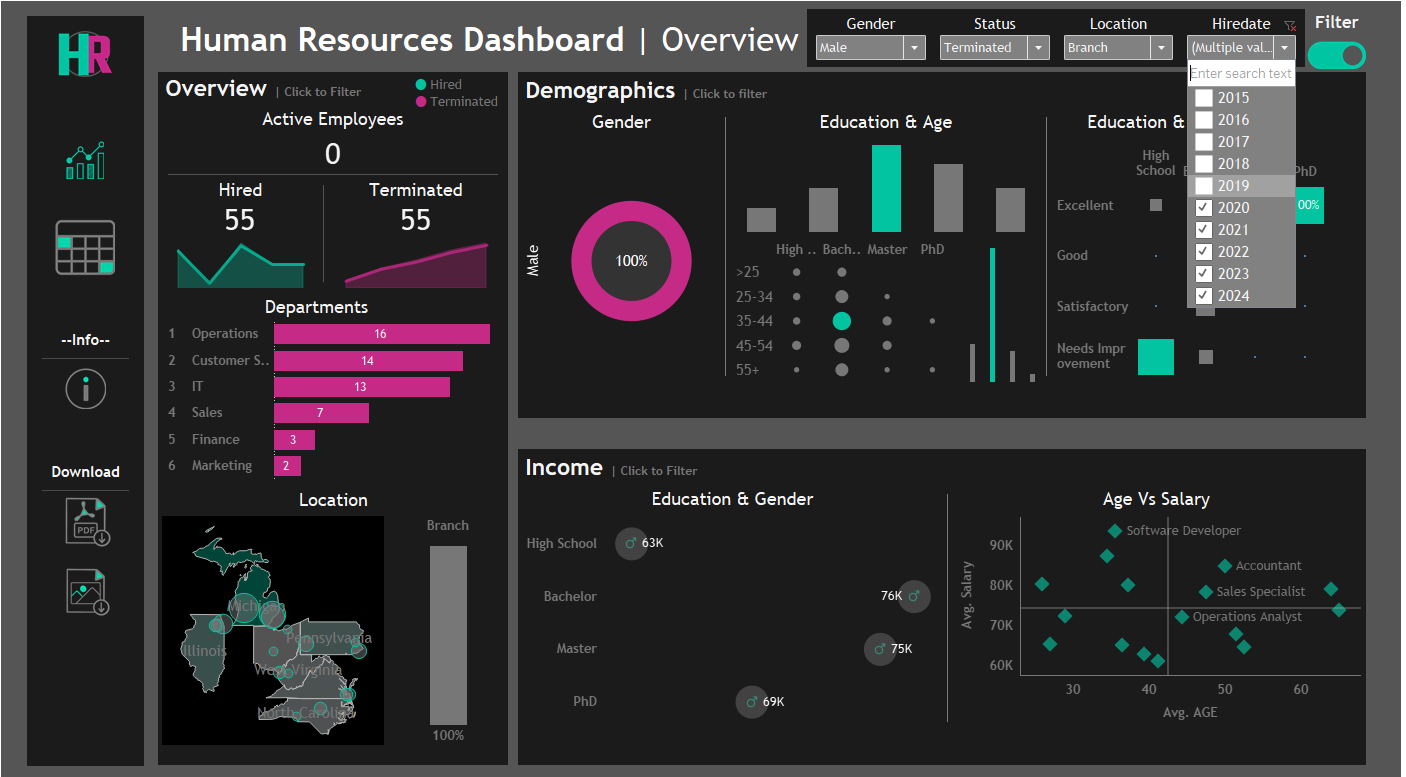

The page's visual inventory and layout, read from the dashboard file:
{"tool":"tableau","page":{"name":"HR | Summary","canvas":[1400,800],"ordinal":1},"visuals":[{"type":"blank","box":[142,0,1257,266]},{"type":"text","box":[1286,6,100,30]},{"type":"text","box":[150,7,677.5,64]},{"type":"blank","box":[827.5,7,537.5,64]},{"type":"filter","title":"Education VS Gender Level","param":"[federated.1b5o2vp1k13vo616yvkzb0z88h2i].[none:Gender:nk]","box":[808,10,124,54]},{"type":"filter","title":"Education VS Gender Level","param":"[federated.1b5o2vp1k13vo616yvkzb0z88h2i].[none:Calculation_1937110847479668753:n","box":[932,10,124,54]},{"type":"filter","title":"Education VS Gender Level","param":"[federated.1b5o2vp1k13vo616yvkzb0z88h2i].[none:Calculation_1937110846422126599:n","box":[1056,10,123,54]},{"type":"filter","title":"Education VS Gender Level","param":"[federated.1b5o2vp1k13vo616yvkzb0z88h2i].[yr:Hiredate:ok]","box":[1179,10,123,54]},{"type":"image","param":"Image/Logo.png","box":[36,25,97,55]},{"type":"dashboard-object","box":[1306,35,59,39]},{"type":"text","box":[157,71,350,32]},{"type":"text","box":[517,71,848,35]},{"type":"text","box":[411,76,89,36]},{"type":"blank","box":[36,80,97,60]},{"type":"text","box":[157,103,350,29]},{"type":"text","box":[517,106,207,29]},{"type":"blank","box":[724,106,1,279]},{"type":"text","box":[725,106,320,29]},{"type":"blank","box":[1045,106,1,279]},{"type":"text","box":[1046,106,287,29]},{"type":"worksheet","title":"Active","mark":"Text","box":[157,132,350,41]},{"type":"worksheet","title":"Gender","mark":"Pie","rows":["Gender"],"cols":["Calculation_1937110846429085710","Calculation_1937110846429085710"],"box":[517,135,207,250]},{"type":"worksheet","title":"Age Group","mark":"Bar","rows":["Calculation_1937110846402056192"],"cols":["Calculation_1937110846440509456"],"box":[725,135,320,100]},{"type":"worksheet","title":"Education VS Performance","mark":"Square","rows":["Performance Rating"],"cols":["Education Level"],"box":[1046,135,287,250]},{"type":"dashboard-object","box":[36,140,97,38]},{"type":"blank","box":[157,173,350,1]},{"type":"text","box":[157,174,165,29]},{"type":"blank","box":[322,174,1,117]},{"type":"text","box":[323,174,184,29]},{"type":"blank","box":[36,178,97,38]},{"type":"worksheet","title":"HIRED","mark":"Text","box":[157,203,165,32]},{"type":"worksheet","title":"Terminated","mark":"Text","box":[323,203,184,32]},{"type":"dashboard-object","box":[36,216,97,60]},{"type":"worksheet","title":"Hired by Years","mark":"Line","rows":["Calculation_1937110846402056192","Calculation_1937110846402056192"],"cols":["Hiredate"],"box":[157,235,165,56]},{"type":"worksheet","title":"Terminated by Years","mark":"Line","rows":["Calculation_1937110846402326529","Calculation_1937110846402326529"],"cols":["Termdate"],"box":[323,235,184,56]},{"type":"worksheet","title":"Age VS Education","mark":"Pie","rows":["Calculation_1937110846440509456"],"cols":["Education Level"],"box":[725,235,233,150]},{"type":"worksheet","title":"Education Level","mark":"Bar","rows":["Calculation_1937110846402056192"],"cols":["Education Level"],"box":[958,235,87,150]},{"type":"text","box":[142,266,1257,267]},{"type":"blank","box":[36,276,97,50]},{"type":"blank","box":[157,291,92,25]},{"type":"text","box":[249,291,133,25]},{"type":"blank","box":[382,291,125,25]},{"type":"worksheet","title":"Departments","mark":"Bar","rows":["Calculation_1937110846415405062","Department"],"cols":["Calculation_1937110846402056192"],"box":[157,316,350,166]},{"type":"text","box":[36,326,97,26]},{"type":"blank","box":[36,352,97,11]},{"type":"dashboard-object","box":[36,363,97,49]},{"type":"blank","box":[36,412,97,46]},{"type":"text","box":[517,448.5,848,35]},{"type":"text","box":[36,458,97,26]},{"type":"text","box":[517,483.5,429.5,29]},{"type":"blank","box":[946.5,483.5,1,248]},{"type":"text","box":[947.5,483.5,417.5,29]},{"type":"blank","box":[36,484,97,11]},{"type":"blank","box":[167,487,112.7,24]},{"type":"text","box":[279.7,487,104.7,24]},{"type":"blank","box":[384.3,487,112.7,24]},{"type":"dashboard-object","box":[36,495,97,51]},{"type":"worksheet","title":"MAP STATE","mark":"Automatic","box":[157,511,230.5,237]},{"type":"worksheet","title":"Location","mark":"Bar","rows":["Calculation_1937110846402056192"],"cols":["Calculation_1937110846422126599","Calculation1"],"box":[387.5,511,119.5,237]},{"type":"worksheet","title":"Education VS Gender Level","mark":"Square","rows":["Education Level"],"cols":["Salary","Salary"],"box":[517,512.5,429.5,219]},{"type":"worksheet","title":"Age VS Salary","mark":"Shape","rows":["Salary"],"cols":["Calculation_1937110846439919631"],"box":[947.5,512.5,417.5,219]},{"type":"blank","box":[142,533,1257,267]},{"type":"blank","box":[36,546,97,20]},{"type":"dashboard-object","box":[36,566,97,49]}]}

Visuals, with their boxes on the page's 1400x800 design canvas (x1, y1, x2, y2). These are canvas units, not pixel positions in the 1406x777 screenshot, which may show the page scaled, cropped or inside an application window:
blank: [142, 0, 1399, 266]
text: [1286, 6, 1386, 36]
text: [150, 7, 828, 71]
blank: [828, 7, 1365, 71]
"Education VS Gender Level" filter: [808, 10, 932, 64]
"Education VS Gender Level" filter: [932, 10, 1056, 64]
"Education VS Gender Level" filter: [1056, 10, 1179, 64]
"Education VS Gender Level" filter: [1179, 10, 1302, 64]
image: [36, 25, 133, 80]
dashboard-object: [1306, 35, 1365, 74]
text: [157, 71, 507, 103]
text: [517, 71, 1365, 106]
text: [411, 76, 500, 112]
blank: [36, 80, 133, 140]
text: [157, 103, 507, 132]
text: [517, 106, 724, 135]
blank: [724, 106, 725, 385]
text: [725, 106, 1045, 135]
blank: [1045, 106, 1046, 385]
text: [1046, 106, 1333, 135]
"Active" worksheet (Text marks): [157, 132, 507, 173]
"Gender" worksheet (Pie marks): [517, 135, 724, 385]
"Age Group" worksheet (Bar marks): [725, 135, 1045, 235]
"Education VS Performance" worksheet (Square marks): [1046, 135, 1333, 385]
dashboard-object: [36, 140, 133, 178]
blank: [157, 173, 507, 174]
text: [157, 174, 322, 203]
blank: [322, 174, 323, 291]
text: [323, 174, 507, 203]
blank: [36, 178, 133, 216]
"HIRED" worksheet (Text marks): [157, 203, 322, 235]
"Terminated" worksheet (Text marks): [323, 203, 507, 235]
dashboard-object: [36, 216, 133, 276]
"Hired by Years" worksheet (Line marks): [157, 235, 322, 291]
"Terminated by Years" worksheet (Line marks): [323, 235, 507, 291]
"Age VS Education" worksheet (Pie marks): [725, 235, 958, 385]
"Education Level" worksheet (Bar marks): [958, 235, 1045, 385]
text: [142, 266, 1399, 533]
blank: [36, 276, 133, 326]
blank: [157, 291, 249, 316]
text: [249, 291, 382, 316]
blank: [382, 291, 507, 316]
"Departments" worksheet (Bar marks): [157, 316, 507, 482]
text: [36, 326, 133, 352]
blank: [36, 352, 133, 363]
dashboard-object: [36, 363, 133, 412]
blank: [36, 412, 133, 458]
text: [517, 448, 1365, 484]
text: [36, 458, 133, 484]
text: [517, 484, 946, 512]
blank: [946, 484, 948, 732]
text: [948, 484, 1365, 512]
blank: [36, 484, 133, 495]
blank: [167, 487, 280, 511]
text: [280, 487, 384, 511]
blank: [384, 487, 497, 511]
dashboard-object: [36, 495, 133, 546]
"MAP STATE" worksheet: [157, 511, 388, 748]
"Location" worksheet (Bar marks): [388, 511, 507, 748]
"Education VS Gender Level" worksheet (Square marks): [517, 512, 946, 732]
"Age VS Salary" worksheet (Shape marks): [948, 512, 1365, 732]
blank: [142, 533, 1399, 800]
blank: [36, 546, 133, 566]
dashboard-object: [36, 566, 133, 615]
